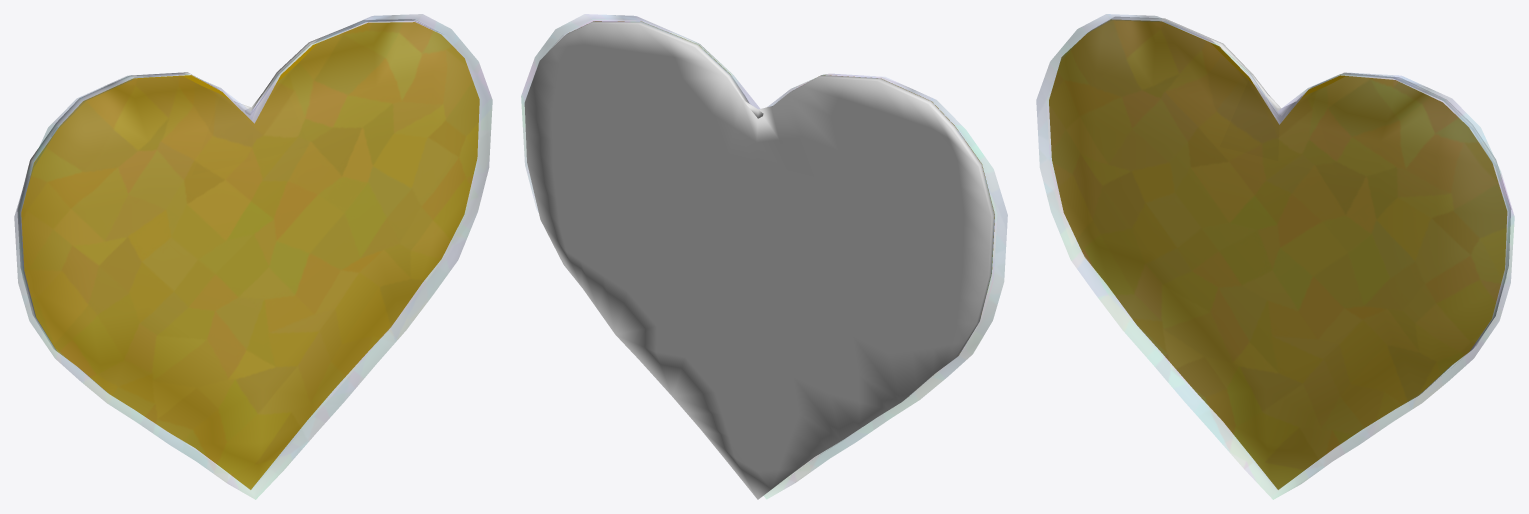
The model's file is heart_yell_holo.glb.
3 views of the same model, side by side, from view 1: azimuth 30°, elevation 25°; view 2: azimuth 150°, elevation 25°; view 3: azimuth 330°, elevation 25° (orthographic).
Visible parts, largest first — view 1: 平面, PHOTO_PLANE, 平面11; view 2: 平面11, 平面; view 3: 平面, PHOTO_PLANE, 平面11.
Boxes of the visible parts, x1=… form: 平面: x1=14, y1=14, x2=492, y2=499; PHOTO_PLANE: x1=21, y1=22, x2=479, y2=489; 平面11: x1=17, y1=19, x2=439, y2=391; 平面11: x1=524, y1=21, x2=994, y2=499; 平面: x1=521, y1=14, x2=1007, y2=498; 平面: x1=1036, y1=14, x2=1514, y2=499; PHOTO_PLANE: x1=1049, y1=19, x2=1507, y2=489; 平面11: x1=1091, y1=16, x2=1511, y2=394.
Bounding box in the file's own units: 2.28 × 2.05 × 0.1344.
3 materials, 1 textured.
